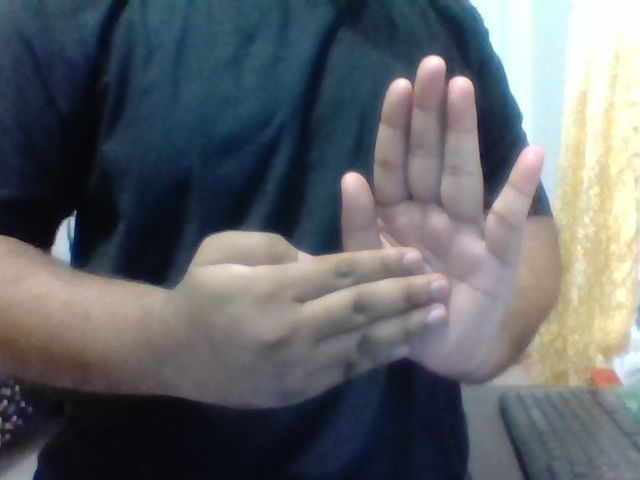H: (149, 42, 547, 397)
